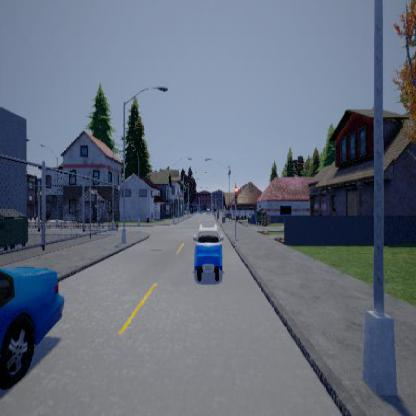traffic_light_red: (233, 183, 236, 205)
vehicle: (0, 266, 64, 389), (192, 233, 223, 280)
